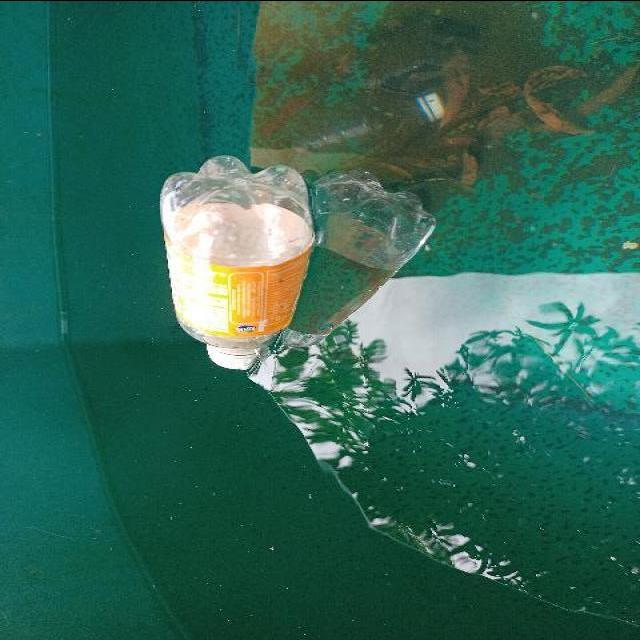Bottle: (154, 144, 322, 374)
